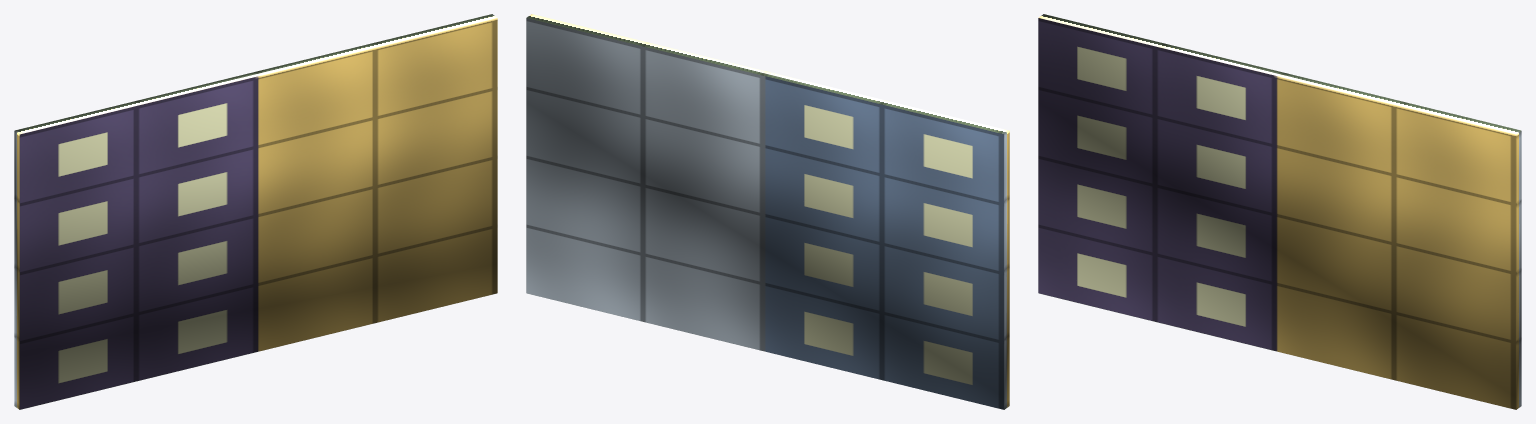
File: fence_metal.glb
3 views of the same model, side by side, from view 1: azimuth 30°, elevation 25°; view 2: azimuth 150°, elevation 25°; view 3: azimuth 330°, elevation 25° (orthographic).
Visible parts, largest first — view 1: col; view 2: col; view 3: col.
Boxes of the visible parts, x1,y1,x2,y2 form: col: [14, 14, 497, 409]; col: [526, 14, 1009, 409]; col: [1038, 14, 1521, 409].
Bounding box in the file's own units: 2 × 1.1 × 0.0382.
1 material, 1 textured.
